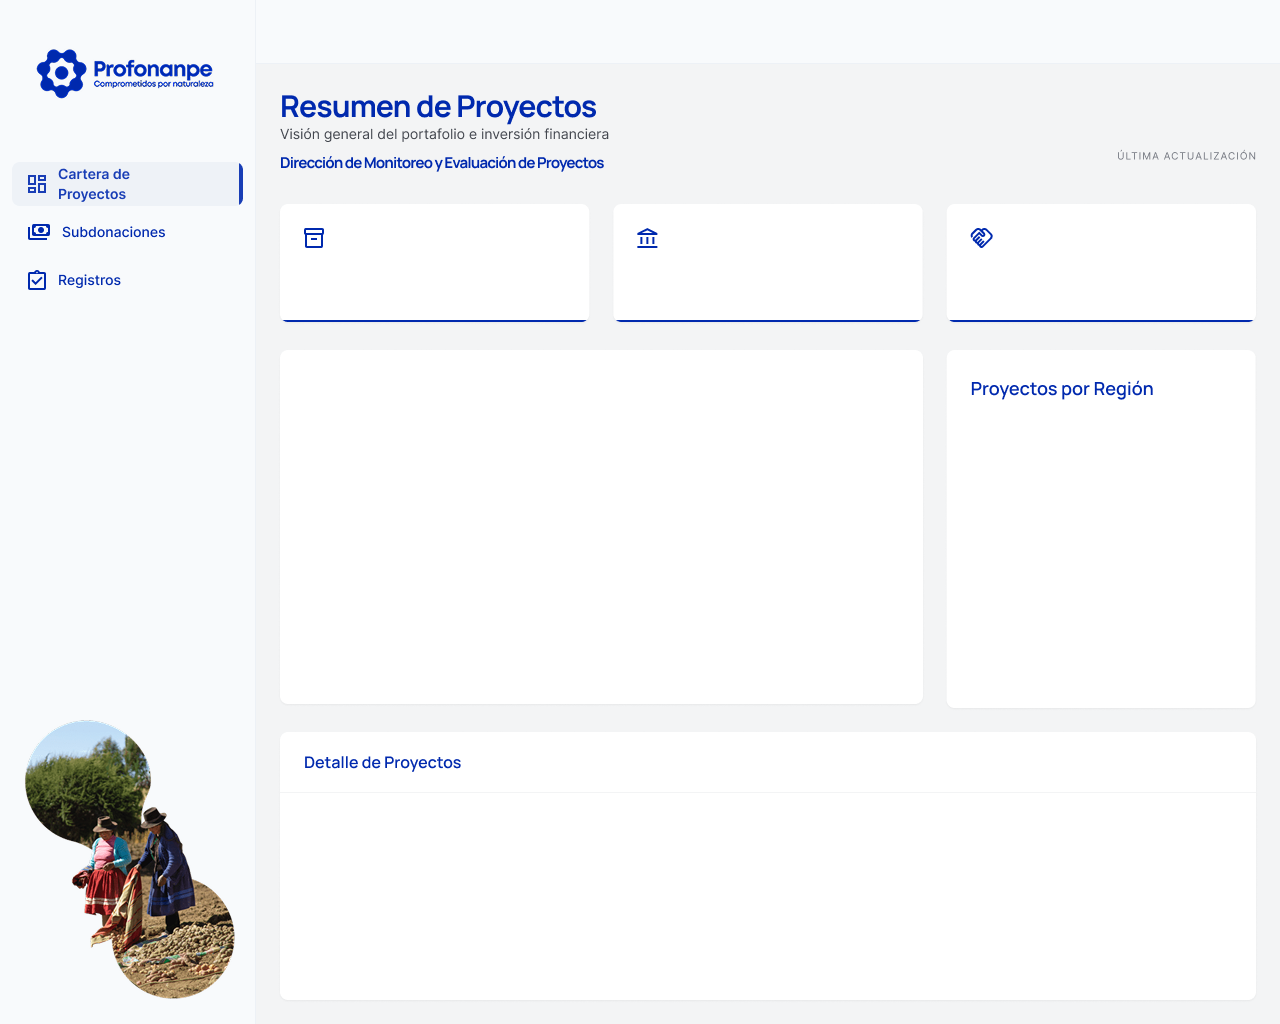

This screenshot's page, from the dashboard's own definition file:
{"tool":"powerbi","page":{"name":"Cartera de Proyectos","canvas":[1280,1024],"ordinal":0},"visuals":[{"type":"advancedSlicerVisual","fields":{"Values":["Fact_Proyectos.Seguimiento"]},"box":[1086.2,12.5,193.8,48],"z":0},{"type":"card","fields":{"Values":["_Measure.Monto Dolarizado"]},"box":[648.6,207.6,248.8,108.1],"z":1000},{"type":"card","fields":{"Values":["Measure.Total Proyectos DIME"]},"box":[978.6,205.7,245.7,108.6],"z":2000},{"type":"card","fields":{"Values":["Measure.N_Proyectos"]},"box":[315.7,205.7,248.6,108.6],"z":3000},{"type":"shapeMap","fields":{"Category":["Dim_Departamentos.Departamento"],"Series":["Dim_Ubicacion.Ubigeo"],"Value":["_Measure.Proyectos por Departamento"]},"box":[474.3,351.4,447.1,347.1],"z":4000},{"type":"slicer","title":"REGIONES","fields":{"Values":["Fact_Proyectos.Región"]},"box":[288.6,357.1,185.7,332.9],"z":5000},{"type":"textSlicer","fields":{"Values":["Fact_Proyectos.Nombre corto"]},"box":[252.9,12.9,291.4,48.6],"z":6000},{"type":"htmlContent443BE3AD55E043BF878BED274D3A6855","fields":{"content":["_Measure.HTML Región2"]},"box":[957.1,392.9,287.1,327.1],"z":7000},{"type":"cardVisual","fields":{"Data":["_Measure.Fecha Actualizacion"]},"box":[1050,141.4,212.9,64.3],"z":8000},{"type":"listSlicer","fields":{"Values":["Fact_Proyectos.Tipo proyecto"]},"box":[12,344.6,253.9,144.1],"z":9000},{"type":"listSlicer","fields":{"Values":["Dim_Roles.Rol de Profonanpe"]},"box":[12,514.1,253.9,109.8],"z":10000},{"type":"pageNavigator","box":[12.5,160,227.5,43.8],"z":11000},{"type":"pivotTable","fields":{"Rows":["Fact_Proyectos.CodigoProyecto","Fact_Proyectos.Nombre corto"],"Values":["Min(Fact_Proyectos.Fecha de inicio)","Min(Fact_Proyectos.Fecha Max)","Min(Fact_Proyectos.Moneda)","Sum(Fact_Proyectos.Monto del donante)","_Measure.Roles Profonanpe","Min(Fact_Proyectos.Fuente de financiamiento)","Min(Fact_Proyectos.Ejecutor)","Min(Fact_Proyectos.Aliados para la ejecución ( Gores, Municipalidades y  Empresas))","Min(Fact_Proyectos.Avances Clave ( al 31.12.25))"]},"box":[296.8,777.3,947.1,214.5],"z":12000},{"type":"actionButton","box":[655.4,205.9,250.5,108.1],"z":13000},{"type":"textbox","box":[990,21.4,117.1,40],"z":14000},{"type":"pageNavigator","box":[12,205.9,228.2,42.9],"z":16000}]}

Visuals, with their boxes on the page's 1280x1024 design canvas (x1, y1, x2, y2). These are canvas units, not pixel positions in the 1280x1024 screenshot, which may show the page scaled, cropped or inside an application window:
advancedSlicerVisual - Fact_Proyectos.Seguimiento: <region>1086, 12, 1280, 60</region>
card - _Measure.Monto Dolarizado: <region>649, 208, 897, 316</region>
card - Measure.Total Proyectos DIME: <region>979, 206, 1224, 314</region>
card - Measure.N_Proyectos: <region>316, 206, 564, 314</region>
shapeMap - Dim_Departamentos.Departamento x Dim_Ubicacion.Ubigeo: <region>474, 351, 921, 698</region>
"REGIONES" slicer: <region>289, 357, 474, 690</region>
textSlicer - Fact_Proyectos.Nombre corto: <region>253, 13, 544, 62</region>
htmlContent443BE3AD55E043BF878BED274D3A6855 - _Measure.HTML Región2: <region>957, 393, 1244, 720</region>
cardVisual - _Measure.Fecha Actualizacion: <region>1050, 141, 1263, 206</region>
listSlicer - Fact_Proyectos.Tipo proyecto: <region>12, 345, 266, 489</region>
listSlicer - Dim_Roles.Rol de Profonanpe: <region>12, 514, 266, 624</region>
pageNavigator: <region>12, 160, 240, 204</region>
pivotTable - Fact_Proyectos.CodigoProyecto x Fact_Proyectos.Nombre corto: <region>297, 777, 1244, 992</region>
actionButton: <region>655, 206, 906, 314</region>
textbox: <region>990, 21, 1107, 61</region>
pageNavigator: <region>12, 206, 240, 249</region>
